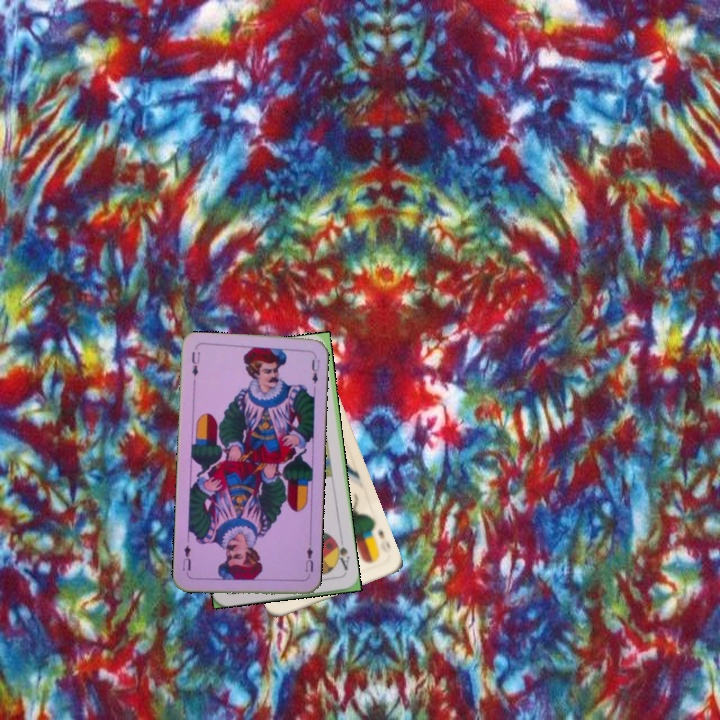EO: (367, 521, 387, 541)
EU: (301, 543, 316, 580), (188, 347, 202, 379)
SA: (330, 536, 352, 576)
